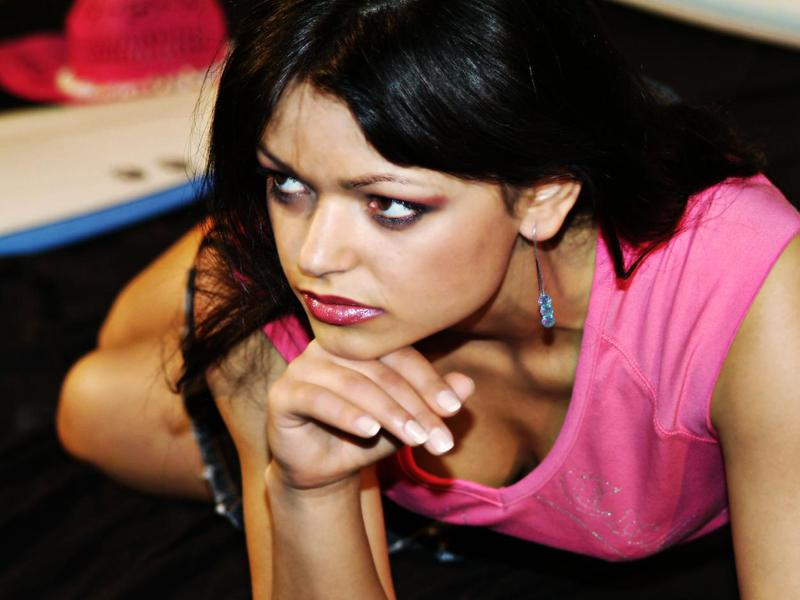person: (59, 3, 800, 600)
